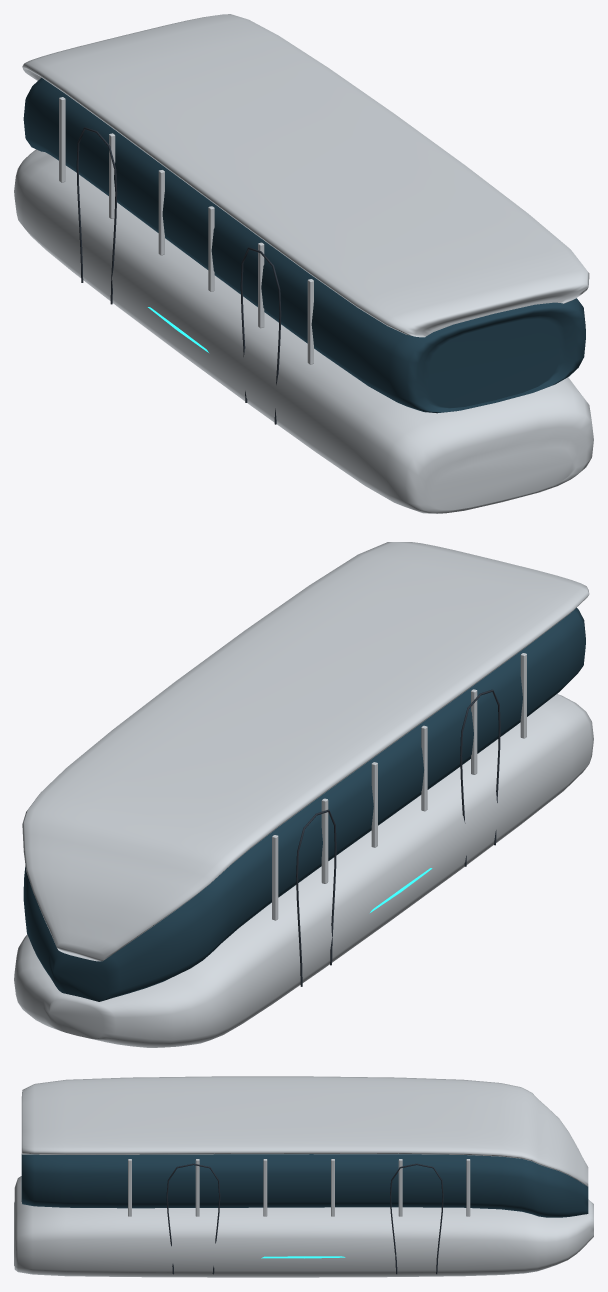
The model's file is maglev_carriage.gltf.
3 renders of one model, top to bottom at view 1: azimuth 30°, elevation 25°; view 2: azimuth 150°, elevation 25°; view 3: azimuth 270°, elevation 25°, orthographic. The views are drawn at different scales.
Parts seen in each view (by area): view 1: maglev_carriage; view 2: maglev_carriage; view 3: maglev_carriage.
Boxes of the visible parts, x1,y1,x2,y2 form: maglev_carriage: [14, 14, 593, 513]; maglev_carriage: [14, 542, 593, 1047]; maglev_carriage: [14, 1076, 593, 1277].
Size of the model in its own units: 2.75 by 2.47 by 9.
